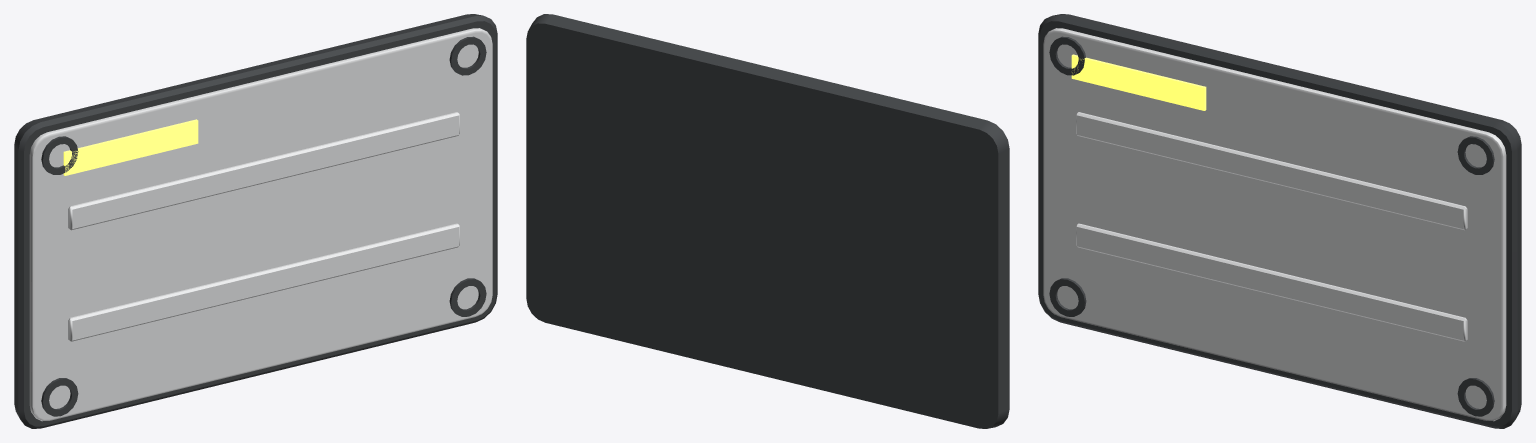
Rendered from heavy_plate.glb.
3 renders of one model, left to right at view 1: azimuth 30°, elevation 25°; view 2: azimuth 150°, elevation 25°; view 3: azimuth 330°, elevation 25°, orthographic.
Visible parts, largest first — view 1: heavy_plate; view 2: heavy_plate; view 3: heavy_plate.
Boxes of the visible parts, x1=… form: heavy_plate: x1=14, y1=14, x2=497, y2=428; heavy_plate: x1=526, y1=14, x2=1009, y2=428; heavy_plate: x1=1038, y1=14, x2=1521, y2=428.
Bounding box in the file's own units: 1.08 × 0.66 × 0.06.
